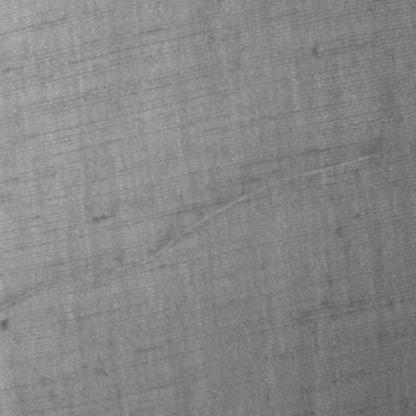objects: (0, 148, 383, 312)
